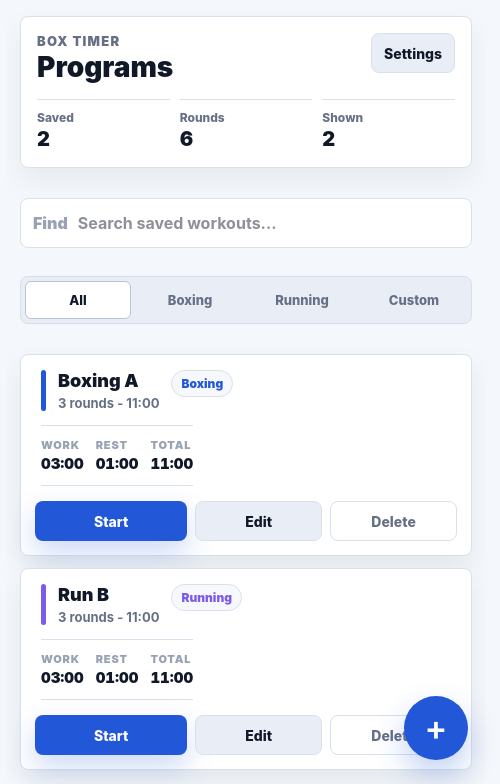
App navigation flow › filters and searches the saved programs
Check: the text "Boxing A" is shown, box [58,370,138,391]
Check: the text "Run B" is shown, box [58,584,109,605]
Click the button "Running". click: x=302, y=300
box: [249,281,355,319]
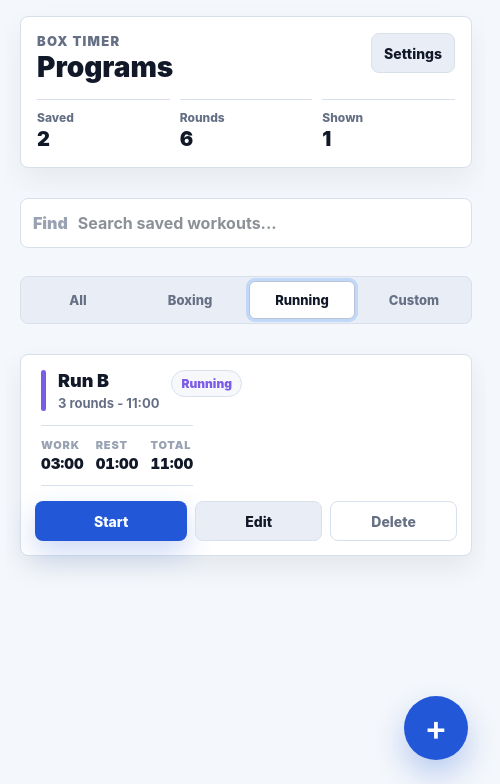
Check: the text "Run B" is shown, box [58,370,109,391]
Check: the button "Boxing A" is gone
Click the button "All". click: x=78, y=300
box: [25,281,131,319]
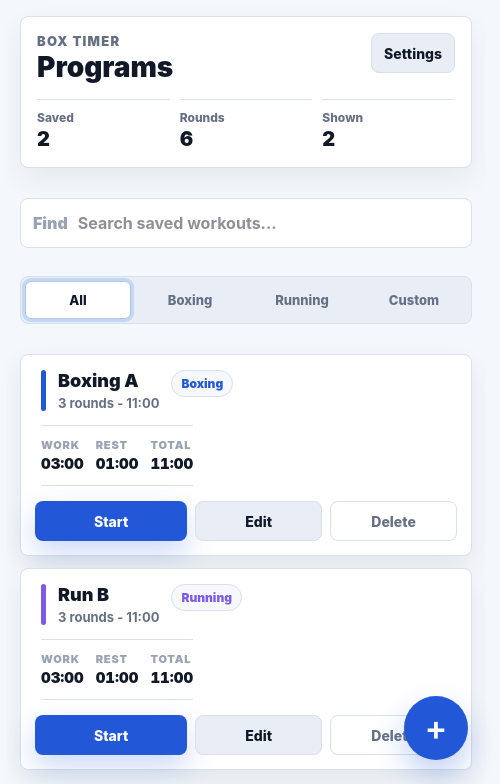
Type "box" into the search field with placeholder "Search saved workouts...". click: x=267, y=223
box: [76,199,459,247]
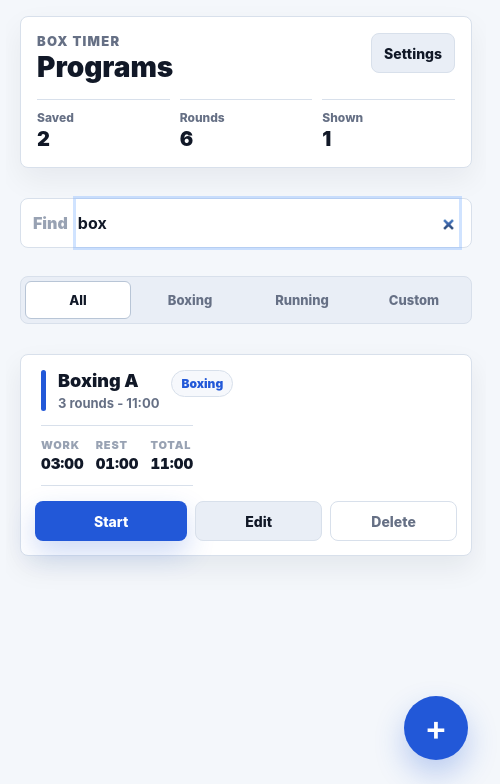
Check: the text "Boxing A" is shown, box [58,370,138,391]
Check: the button "Run B" is gone
